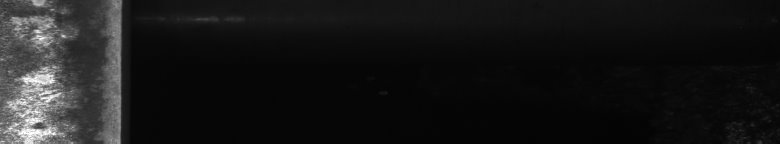kb: (4, 4, 78, 136)
